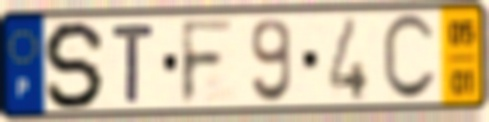4: (326, 15, 371, 103)
9: (248, 16, 294, 105)
C: (379, 11, 440, 105)
F: (178, 16, 238, 108)
S: (41, 18, 111, 112)
T: (109, 21, 157, 106)
